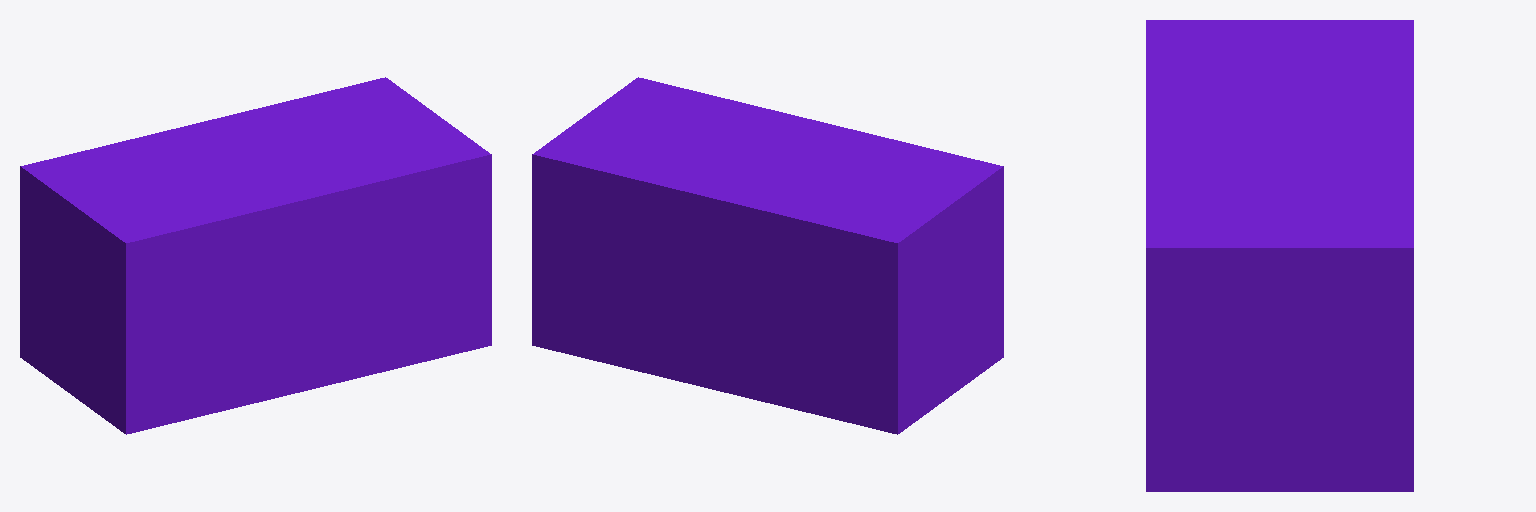
URDF robot description (box):
<?xml version="0.0" ?>
<robot name="box">
  <link name="base_link">
    <inertial>
      <mass value="1"/>
      <inertia ixx="0.02" ixy="0" ixz="0" iyy="0.05" iyz="0" izz="0.05"/>
    </inertial>
    <visual>
      <geometry>
        <box size="0.2 0.1 0.1"/>
      </geometry>
      <material name="purple">
        <color rgba="0.5 0.15 0.9 1"/>
      </material>
      <origin xyz="0 0 0.05"/>
    </visual>
    <collision>
      <geometry>
        <box size="0.2 0.1 0.1"/>
      </geometry>
      <origin xyz="0 0 0.0.05"/>
    </collision>
    <contact>
      <lateral_friction value="10"/>
      <rolling_friction value="0"/>
      <spinning_friction value="0"/>
      <restitution value="1"/>
    </contact>
  </link>
</robot>

--- Render facts (derived) ---
The picture shows the robot from 3 angles, left to right: view 1: azimuth 30°, elevation 25°; view 2: azimuth 150°, elevation 25°; view 3: azimuth 270°, elevation 25°; orthographic projection.
Robot: box — 1 links, 0 joints (none); root link base_link; default pose: every joint at zero.
Links seen in each view (by area): view 1: base_link; view 2: base_link; view 3: base_link.
Boxes of the visible links, bbox=[...] form: base_link: bbox=[20, 77, 491, 434]; base_link: bbox=[532, 77, 1003, 434]; base_link: bbox=[1146, 20, 1413, 491].
Bounding box of the posed robot: 0.2 × 0.1 × 0.1 m (x, y, z).
Geometry: primitives only (box / cylinder / sphere), no mesh files.